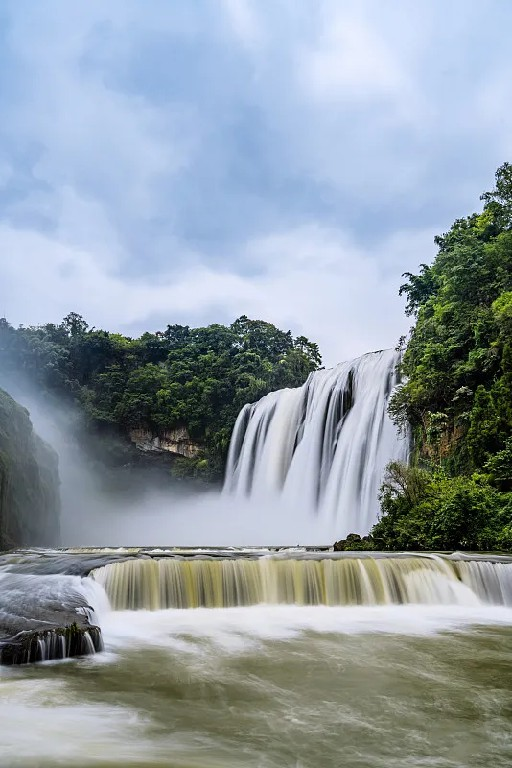Huangguoshu: (222, 349, 409, 548)
